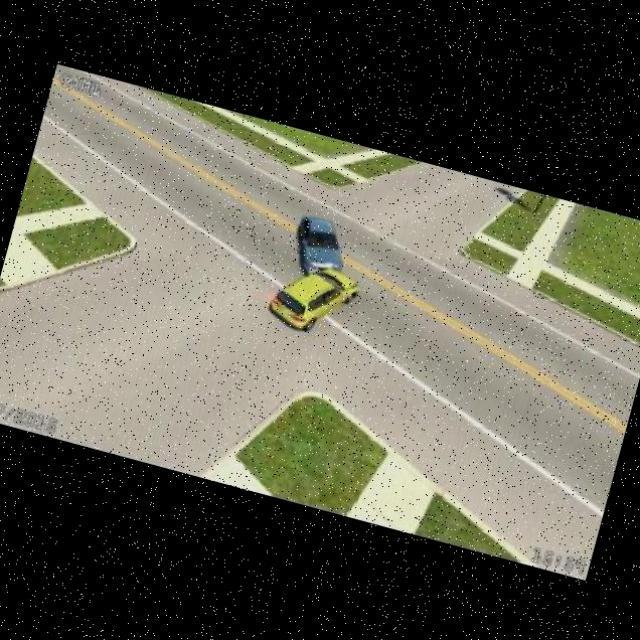accident: (286, 234, 370, 310)
